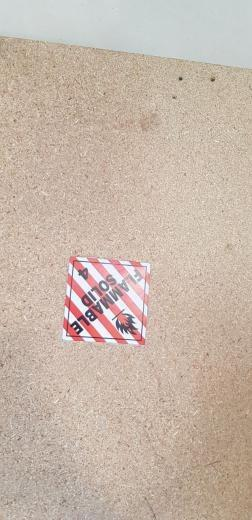flammable-solid: (66, 258, 151, 343)
